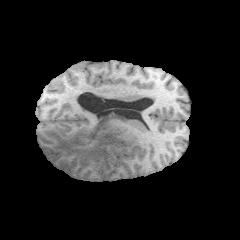glioma: (44, 110, 140, 171)
